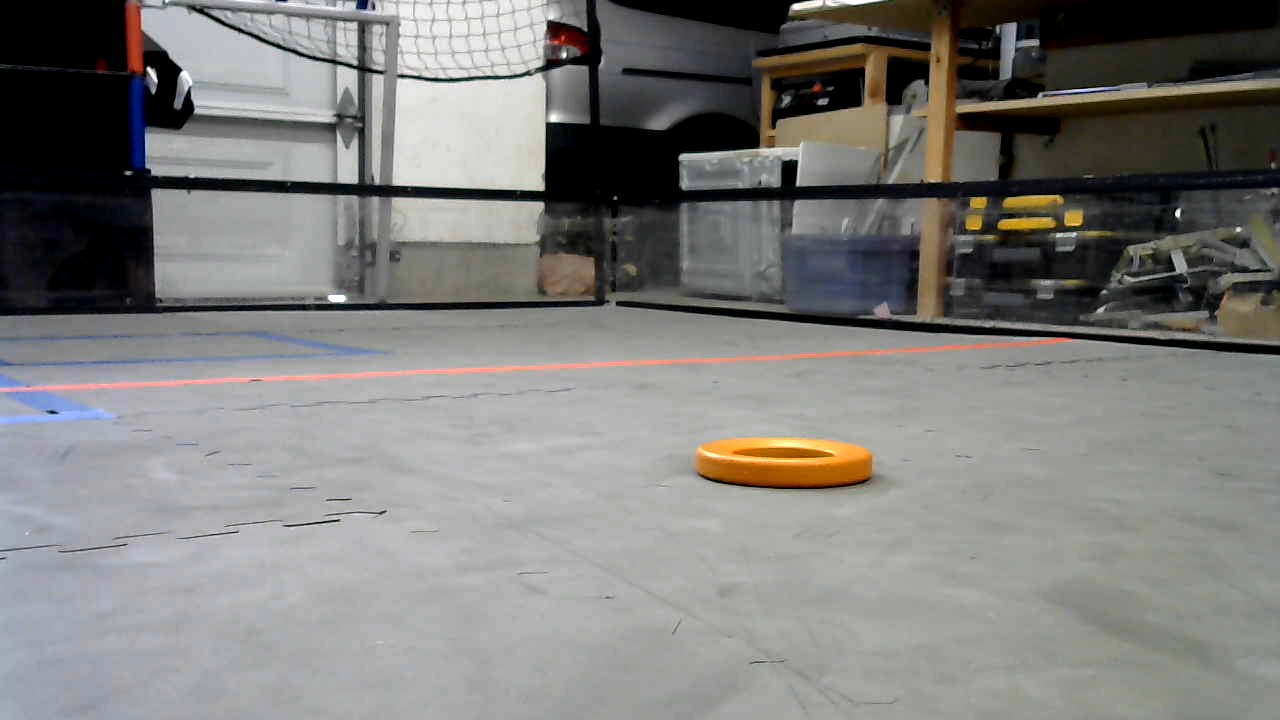OneStack: (692, 433, 873, 487)
